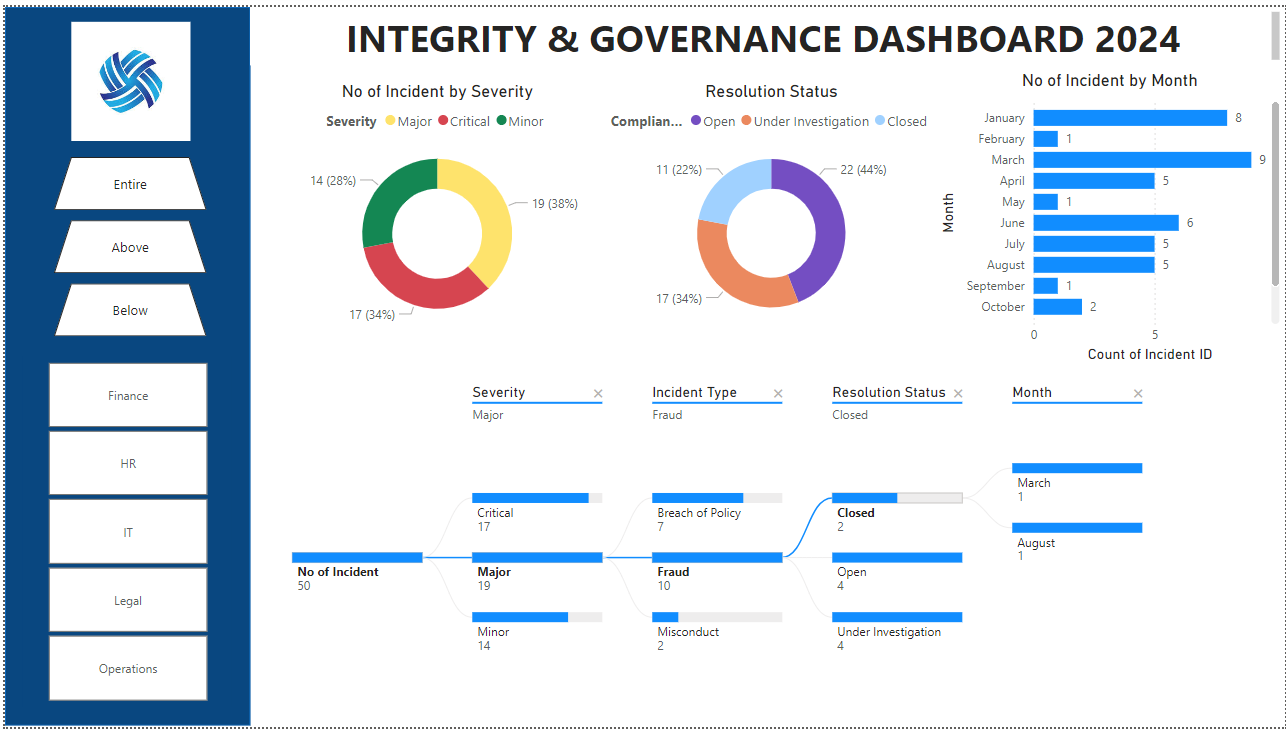

What the dashboard file says about the page in this screenshot:
{"tool":"powerbi","page":{"name":"Page 1","canvas":[1280,720],"ordinal":0},"visuals":[{"type":"shape","box":[0,0,245.4,718.7],"z":0},{"type":"textbox","box":[245.4,0,1034.6,58.6],"z":1000},{"type":"decompositionTreeVisual","fields":{"ExplainBy":["FullData.Severity","FullData.Incident Type","FullData.Compliance_Incidents_Resolution_Data.Incident Status","FullData.Date of Incident.Variation.Date Hierarchy.Month"],"Analyze":["CountNonNull(FullData.Incident ID)"]},"box":[257.3,360.4,1017.3,359.4],"z":2000},{"type":"slicer","fields":{"Values":["FullData.Compliance_Incidents_Resolution_Data.Assigned Department"]},"box":[18,348.9,209.1,351.4],"z":4000},{"type":"donutChart","title":"No of Incident by Severity","fields":{"Category":["FullData.Severity"],"Y":["CountNonNull(FullData.Incident ID)"]},"box":[262.7,73.8,339.8,257.3],"z":5000},{"type":"donutChart","title":"Resolution Status","fields":{"Category":["FullData.Compliance_Incidents_Resolution_Data.Incident Status"],"Y":["CountNonNull(FullData.Incident ID)"]},"box":[602.5,73.8,327.9,256.2],"z":6000},{"type":"barChart","title":"No of Incident by Month","fields":{"Category":["FullData.Date of Incident.Variation.Date Hierarchy.Month"],"Y":["CountNonNull(FullData.Incident ID)"]},"box":[930.4,63,349.6,297.5],"z":6001},{"type":"bookmarkNavigator","box":[46.2,137.2,153.9,182.1],"z":6002},{"type":"image","box":[20.5,6.4,206.5,111.6],"z":6003}]}

Visuals, with their boxes in screenshot pixels (x1, y1, x2, y2), scaled from the page's 1280x720 canvas onto the 1286x732 screenshot:
shape: {"left": 0, "top": 0, "right": 247, "bottom": 731}
textbox: {"left": 247, "top": 0, "right": 1285, "bottom": 60}
decompositionTreeVisual - FullData.Severity x FullData.Incident Type: {"left": 259, "top": 366, "right": 1281, "bottom": 731}
slicer - FullData.Compliance_Incidents_Resolution_Data.Assigned Department: {"left": 18, "top": 355, "right": 228, "bottom": 712}
"No of Incident by Severity" donutChart: {"left": 264, "top": 75, "right": 605, "bottom": 337}
"Resolution Status" donutChart: {"left": 605, "top": 75, "right": 935, "bottom": 336}
"No of Incident by Month" barChart: {"left": 935, "top": 64, "right": 1285, "bottom": 367}
bookmarkNavigator: {"left": 46, "top": 139, "right": 201, "bottom": 325}
image: {"left": 21, "top": 7, "right": 228, "bottom": 120}
